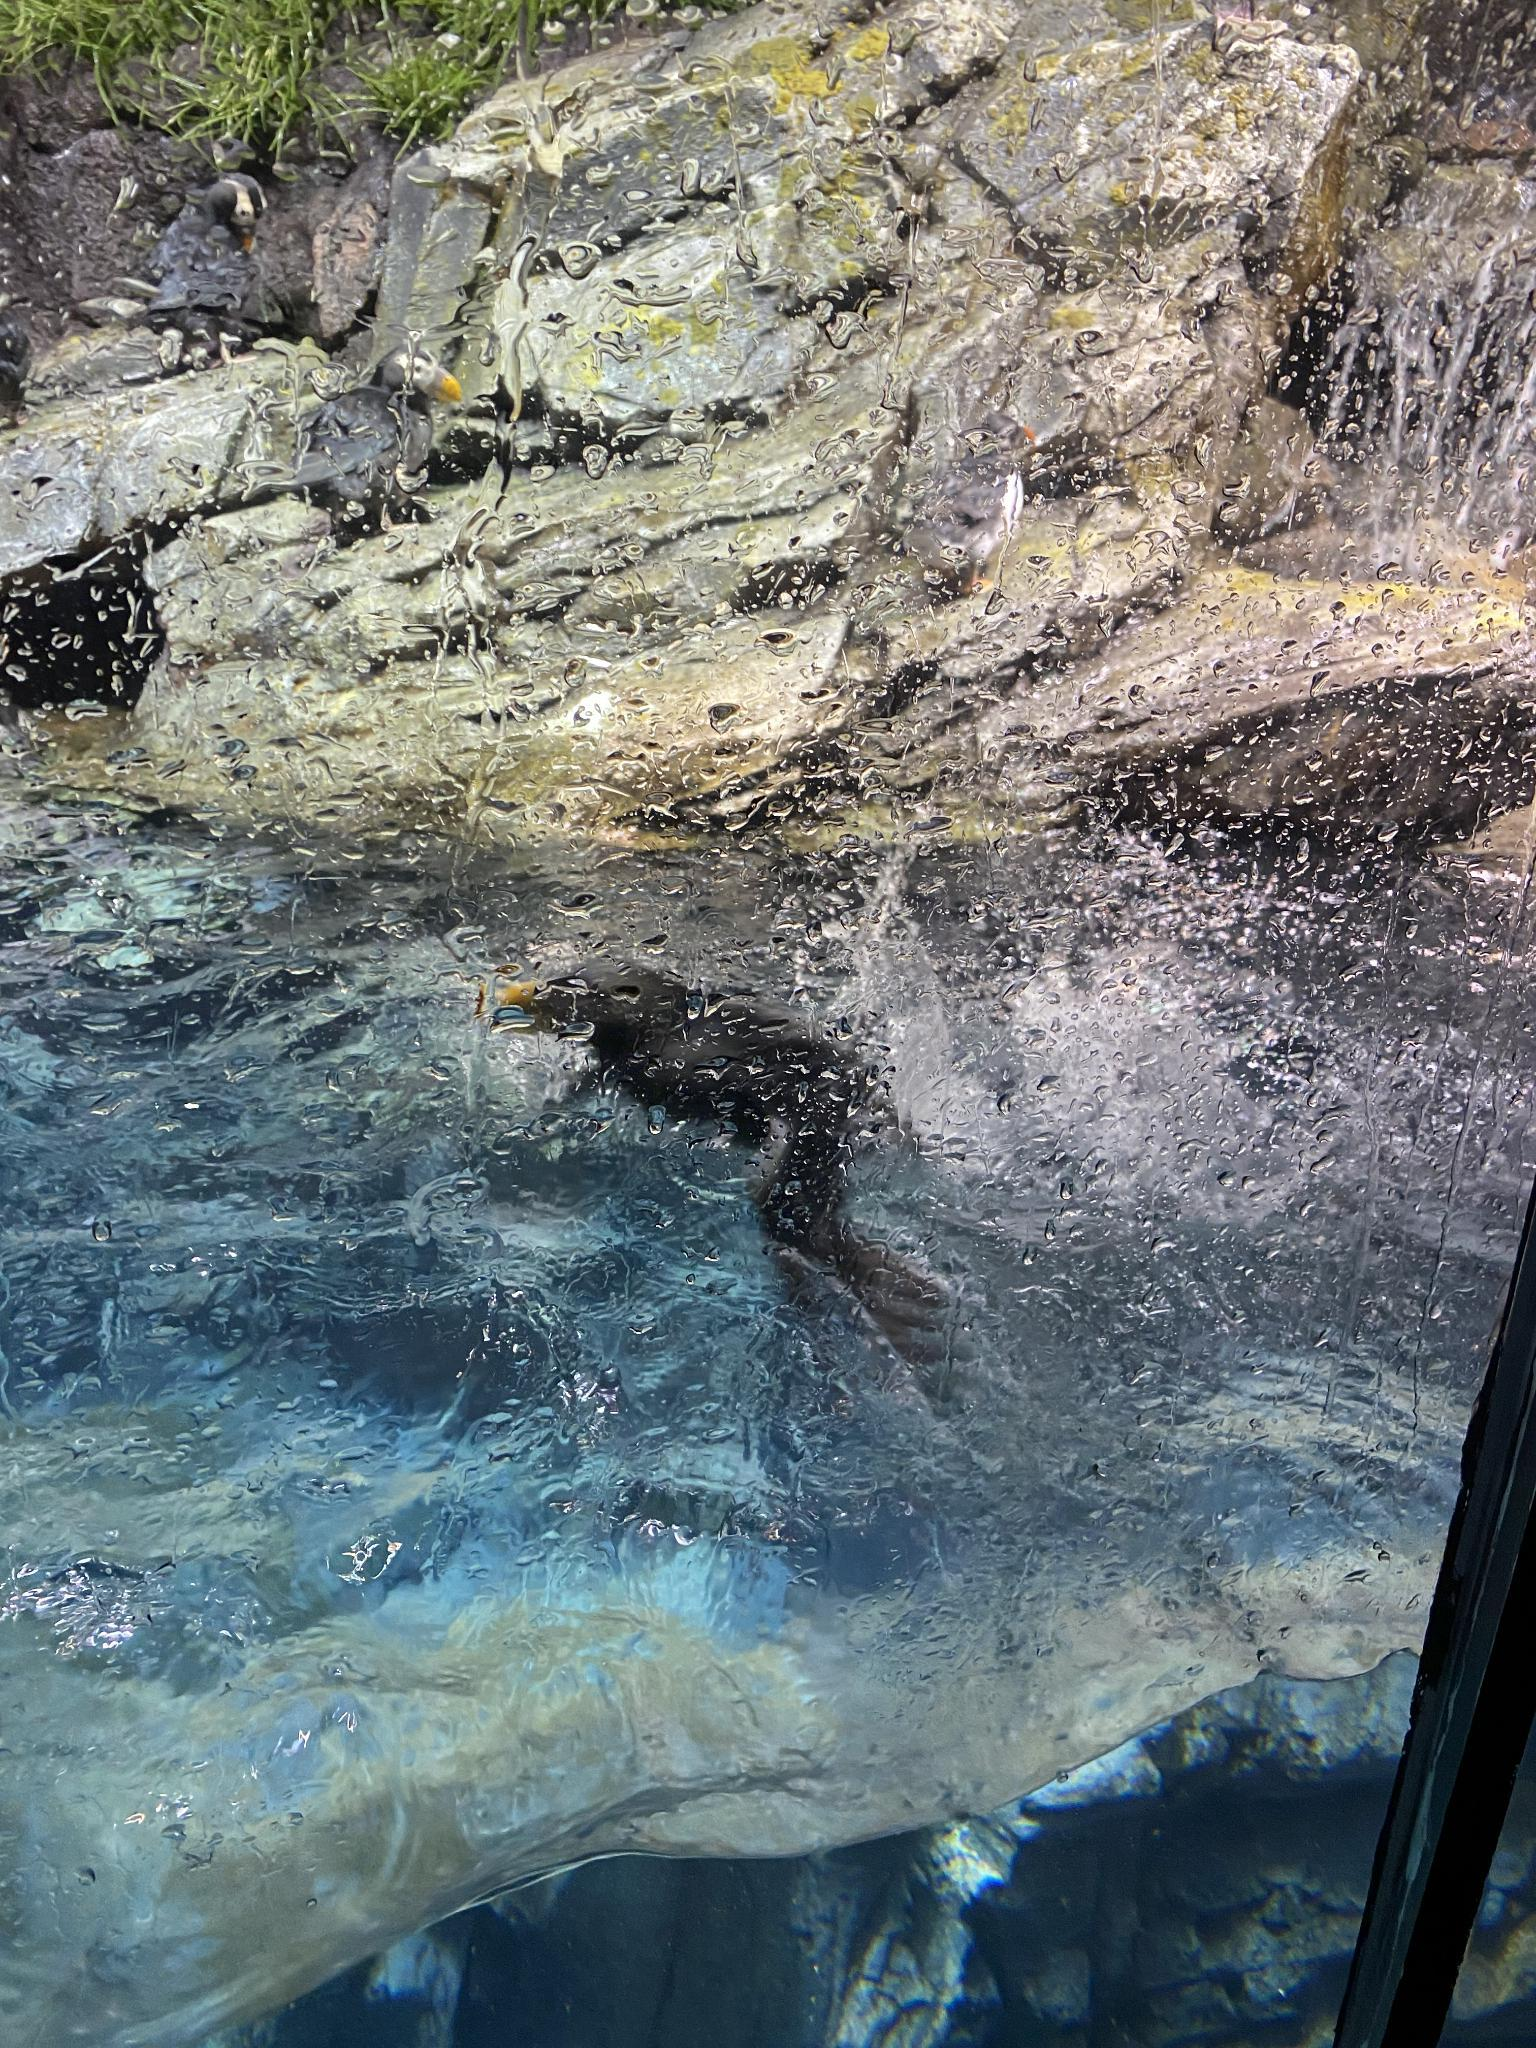puffin: (495, 959, 987, 1422), (273, 337, 465, 537), (145, 169, 282, 361)
